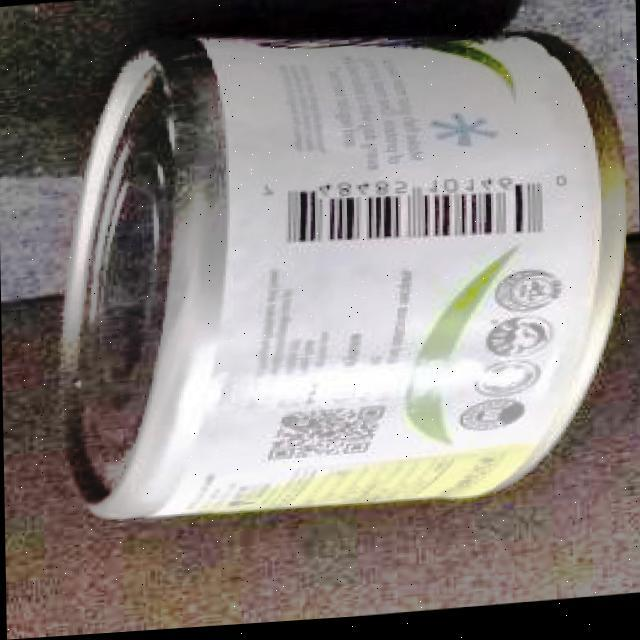Lata: (61, 14, 625, 518)
